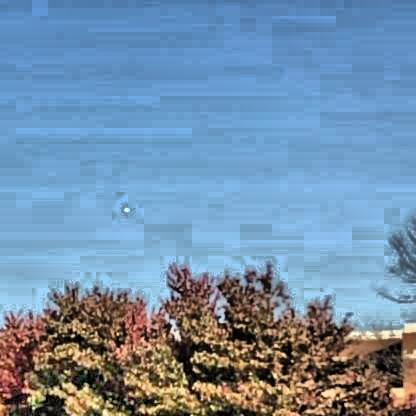golfball: (120, 203, 130, 211)
